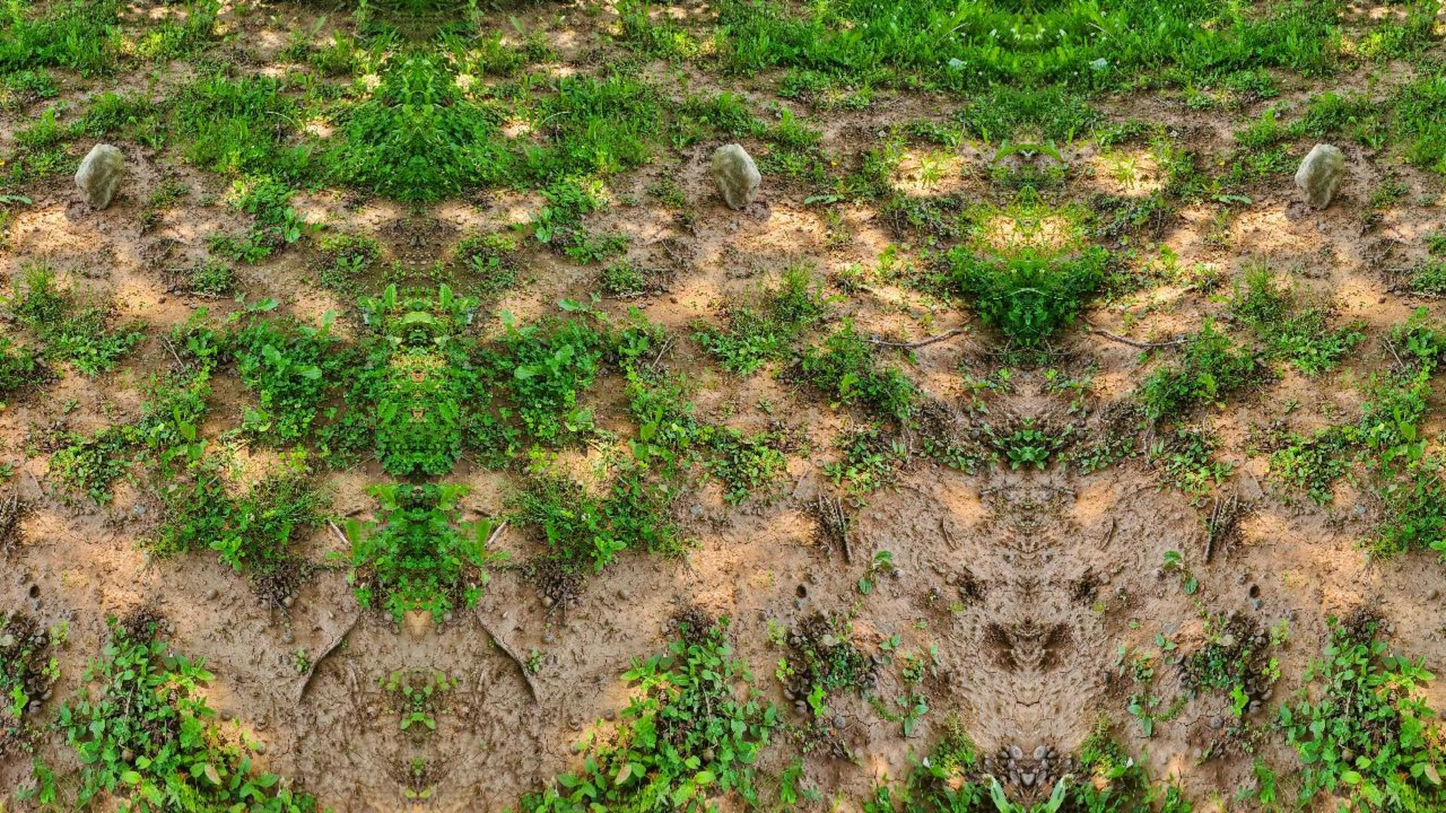rock: (1295, 143, 1344, 209), (711, 143, 759, 209), (75, 143, 123, 209)
